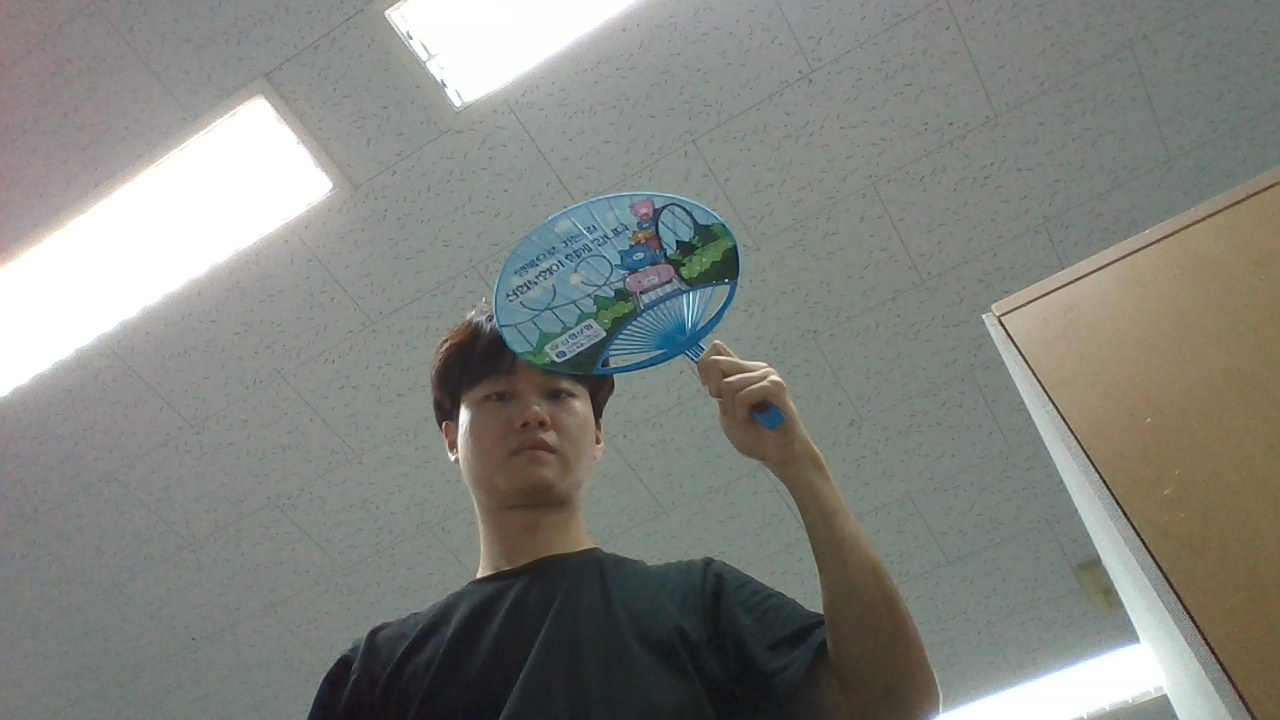Non-Helmet: (411, 287, 646, 519)
